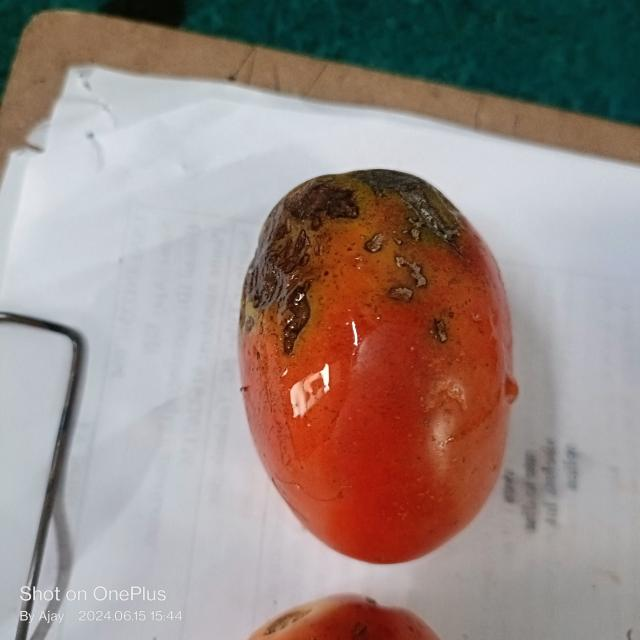Botrytis: (356, 170, 467, 228), (286, 187, 352, 223), (281, 280, 313, 353), (396, 255, 430, 286), (430, 315, 449, 344), (364, 230, 386, 254), (386, 285, 415, 302)
